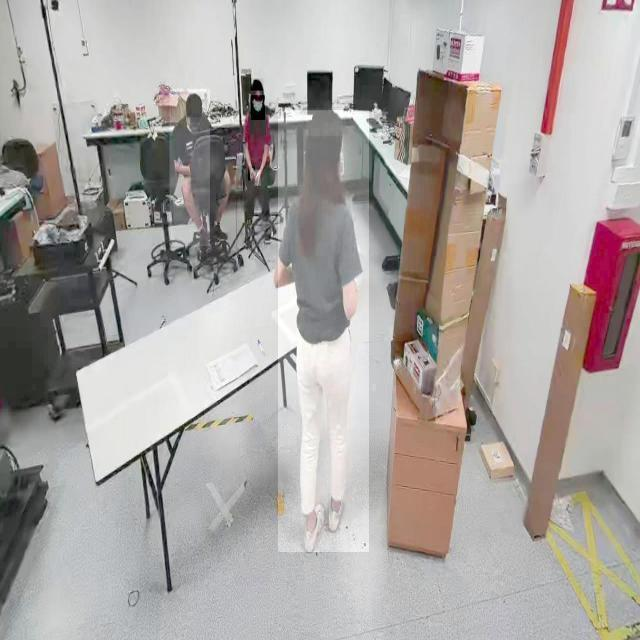boots: (302, 498, 326, 560), (323, 484, 347, 536)
